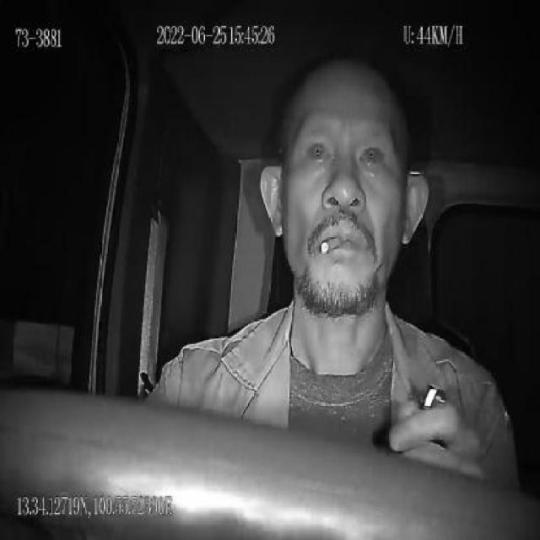smoking: (319, 236, 343, 255)
